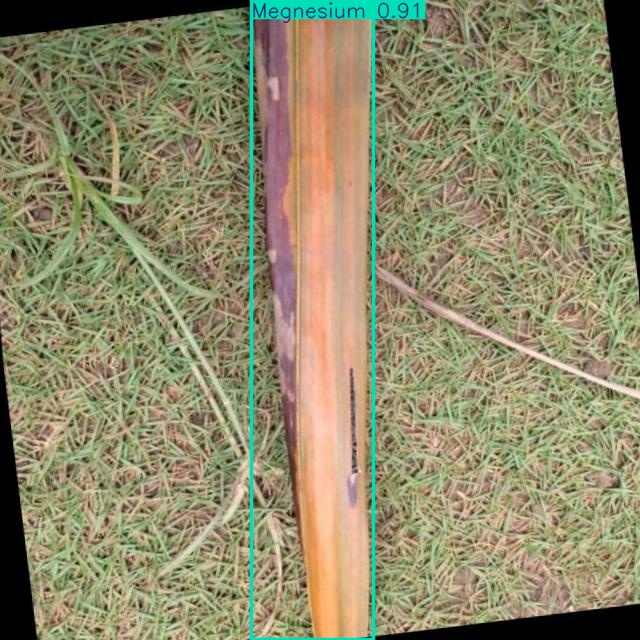Megnesium: (251, 0, 373, 640)
